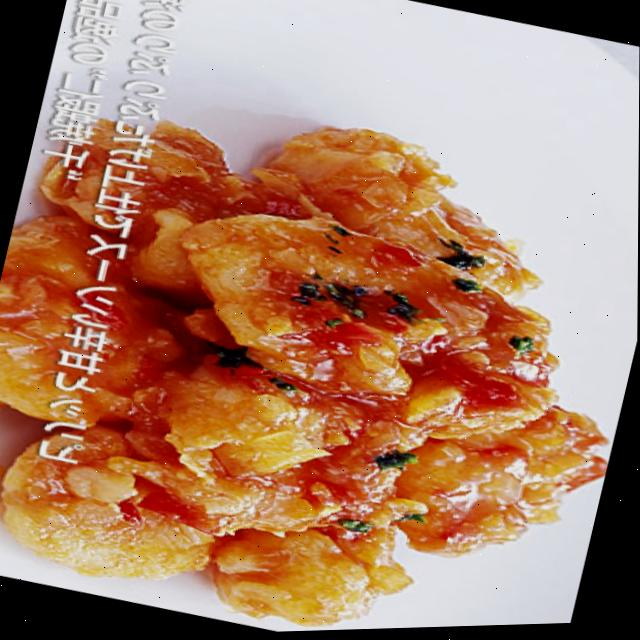熟制海鲜: (79, 70, 640, 638)
